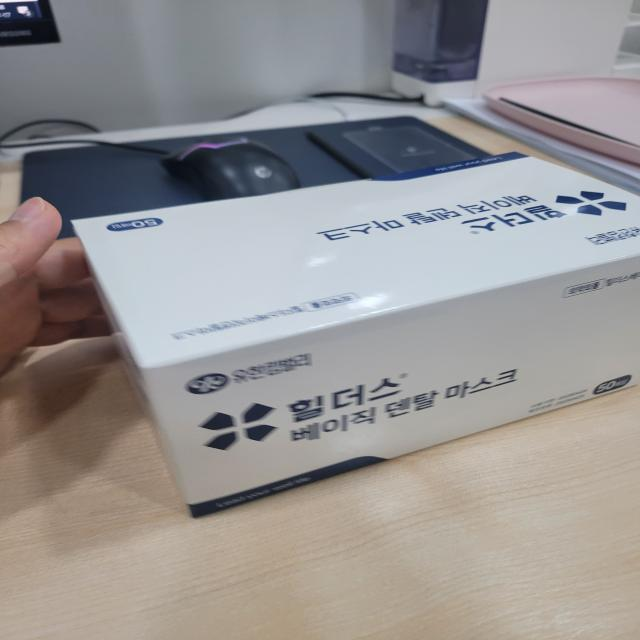mask: (56, 147, 640, 510)
